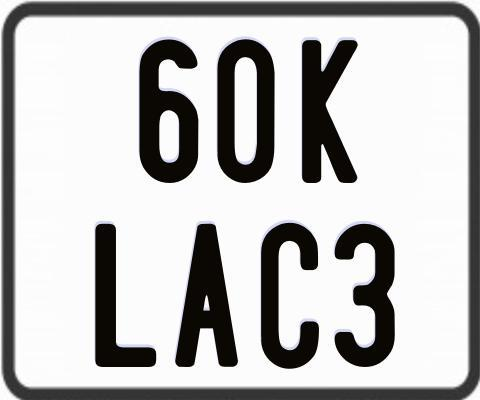0: (214, 38, 276, 185)
3: (333, 223, 396, 369)
6: (138, 38, 203, 184)
A: (173, 221, 236, 364)
C: (261, 222, 325, 370)
K: (299, 38, 357, 183)
L: (95, 222, 161, 371)
